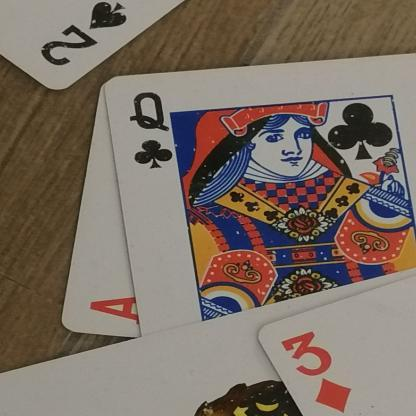2S: (29, 0, 138, 81)
3D: (274, 330, 368, 408)
QC: (125, 79, 178, 182)
